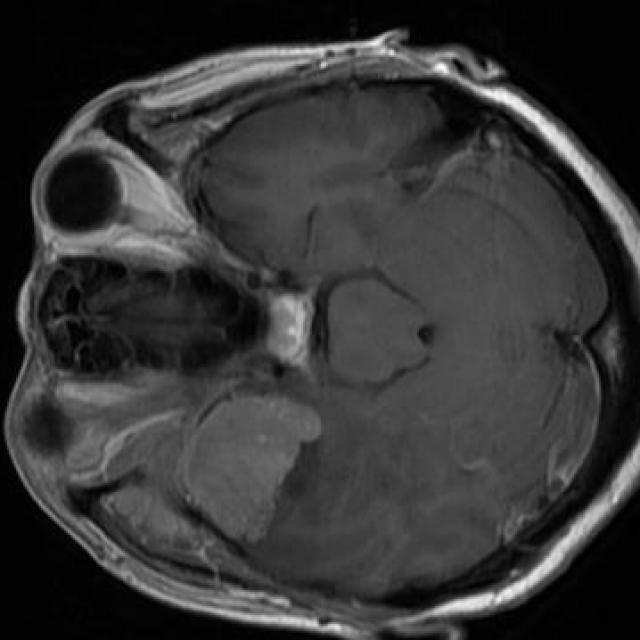meningioma: (98, 398, 323, 570)
